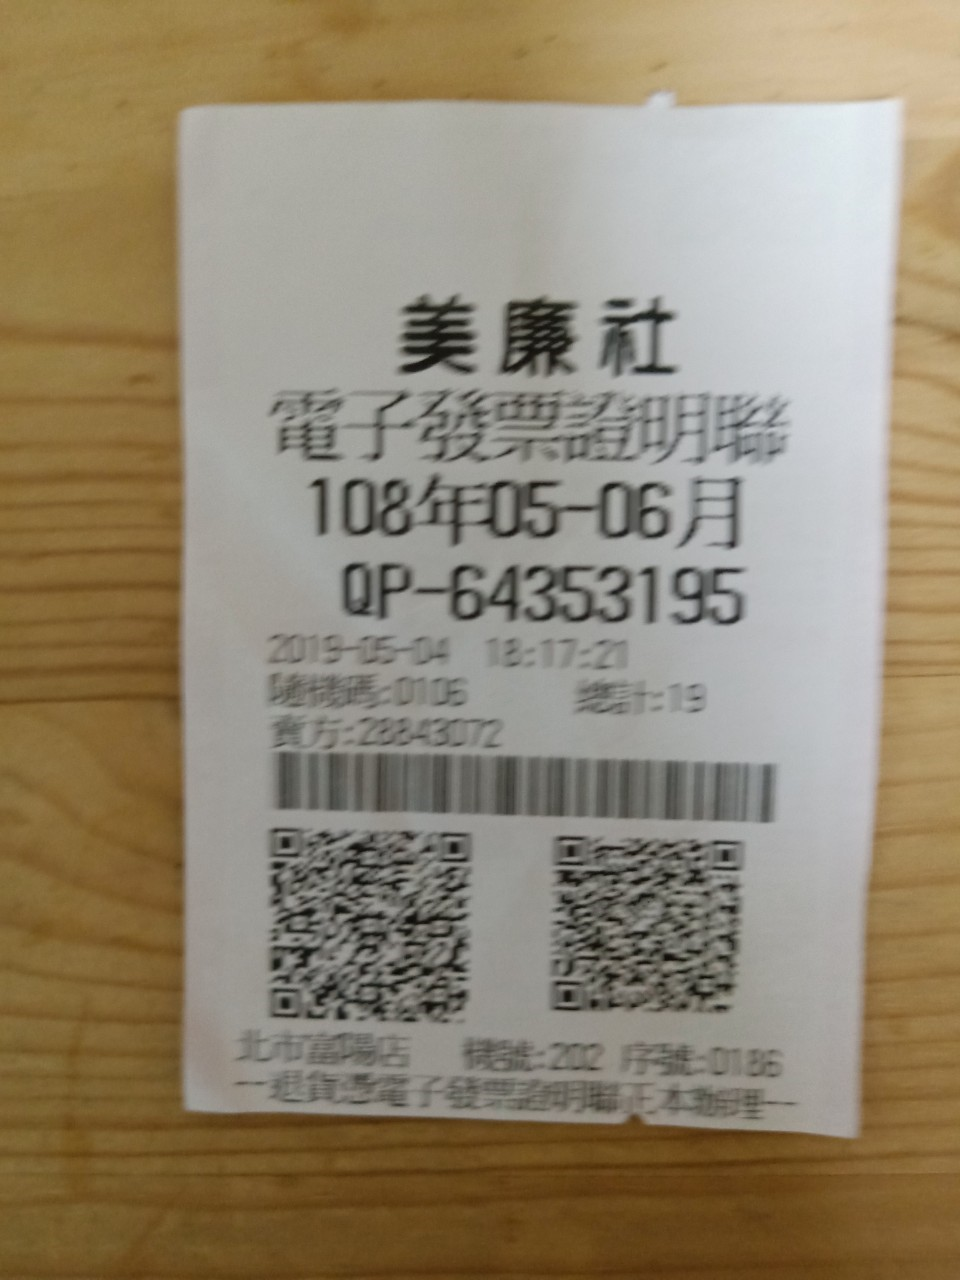Date_New: (305, 467, 748, 552)
Number_New: (446, 562, 748, 628)
